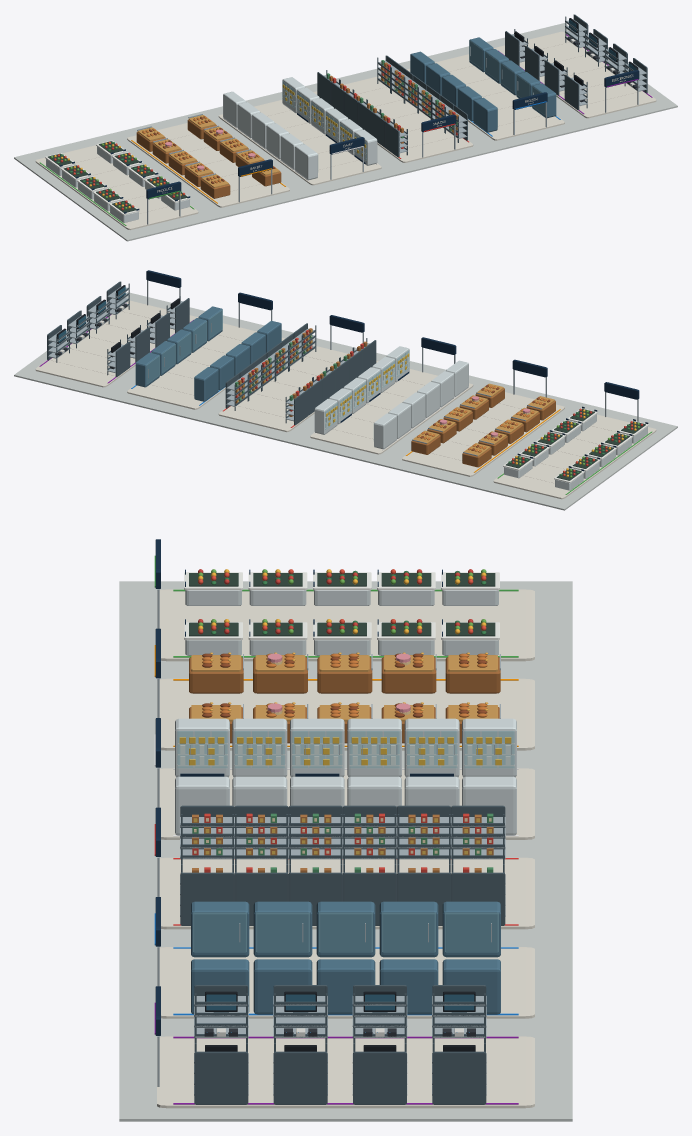
The model's file is checkout_chaos_aisles.glb.
3 renders of one model, top to bottom at view 1: azimuth 30°, elevation 25°; view 2: azimuth 150°, elevation 25°; view 3: azimuth 270°, elevation 25°, orthographic. The views are drawn at different scales.
Parts seen in each view (by area): view 1: Store preview ground, Electronics aisle floor, Snacks aisle floor, Produce aisle floor, Bakery aisle floor, Frozen aisle floor, Dairy aisle floor, Frozen island case, Dairy refrigerator cold cabinet, Frozen island case.005, Frozen island case.007, Dairy refrigerator cold cabinet.006 (+30 smaller); view 2: Store preview ground, Electronics aisle floor, Snacks aisle floor, Produce aisle floor, Bakery aisle floor, Frozen aisle floor, Dairy aisle floor, Frozen island case.004, Frozen island case.009, Dairy refrigerator cold cabinet.005, Dairy refrigerator cold cabinet.011, Frozen island case.007 (+29 smaller); view 3: Store preview ground, Electronics aisle floor, Produce aisle floor, Bakery aisle floor, Snacks aisle floor, Frozen aisle floor, Frozen island case.001, Frozen island case.002, Frozen island case.003, Frozen island case, Frozen island case.004, Dairy aisle floor (+43 smaller).
Boxes of the visible parts, x1,y1,x2,y2 form: Store preview ground: (14,23,677,241); Electronics aisle floor: (493,31,656,118); Snacks aisle floor: (313,76,473,162); Produce aisle floor: (35,145,198,229); Bakery aisle floor: (127,123,289,207); Frozen aisle floor: (406,54,564,140); Dairy aisle floor: (218,100,381,185); Frozen island case: (473,97,497,132); Dairy refrigerator cold cabinet: (295,144,317,180); Frozen island case.005: (532,83,556,118); Frozen island case.007: (500,60,524,95); Dairy refrigerator cold cabinet.006: (354,129,377,165); Store preview ground: (14,292,677,510); Electronics aisle floor: (35,300,197,387); Snacks aisle floor: (218,345,378,432); Produce aisle floor: (493,414,656,499); Bakery aisle floor: (402,392,564,476); Frozen aisle floor: (127,323,285,409); Dairy aisle floor: (310,369,473,454); Frozen island case.004: (194,367,218,401); Frozen island case.009: (135,352,159,387); Dairy refrigerator cold cabinet.005: (374,413,396,449); Dairy refrigerator cold cabinet.011: (314,398,337,434); Frozen island case.007: (167,329,191,364); Store preview ground: (119,581,572,1121); Electronics aisle floor: (157,1036,534,1108); Produce aisle floor: (157,589,534,661); Bakery aisle floor: (157,678,534,750); Snacks aisle floor: (157,857,534,929); Frozen aisle floor: (157,947,534,1018); Frozen island case.001: (253,901,312,957); Frozen island case.002: (316,901,375,957); Frozen island case.003: (379,901,438,957); Frozen island case: (191,901,249,957); Frozen island case.004: (442,901,500,957); Dairy aisle floor: (157,768,534,839).
Size of the model in its own units: 50.5 by 3.27 by 18.
